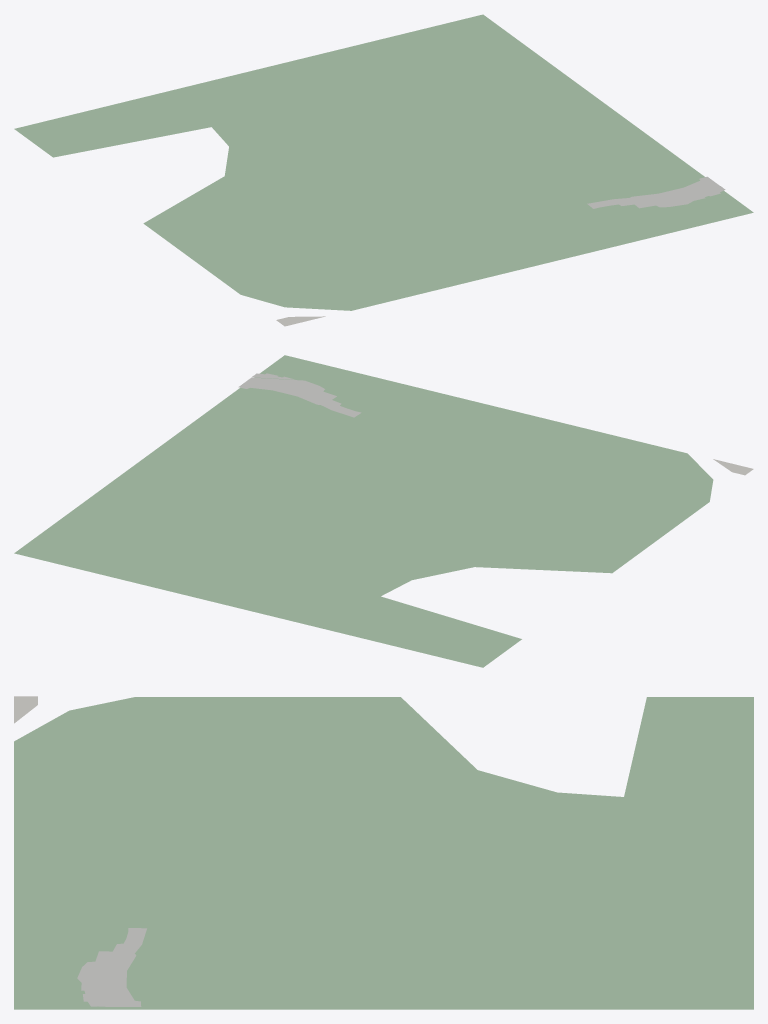
File: 130_83_mid.glb
3 views of the same model, one above another, from view 1: azimuth 30°, elevation 25°; view 2: azimuth 150°, elevation 25°; view 3: azimuth 270°, elevation 25° (orthographic). The views are drawn at different scales.
Size of the model in its own units: 500 by 2.37 by 500.
